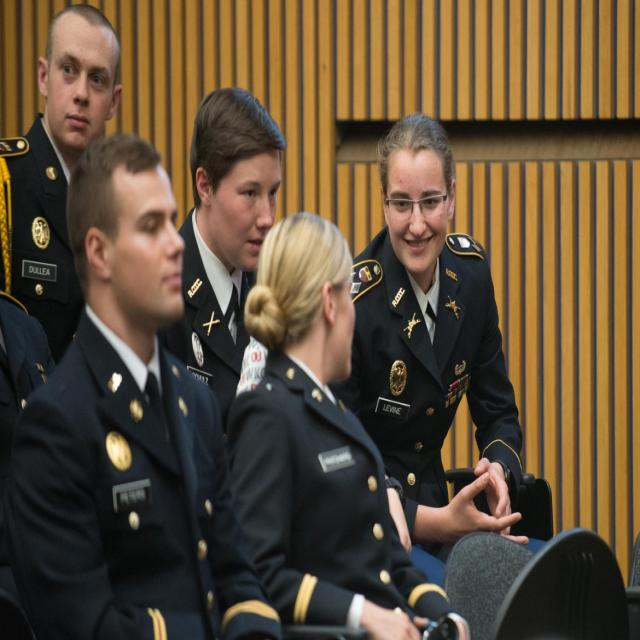body: (6, 132, 284, 640), (217, 208, 471, 639), (327, 110, 531, 549), (150, 82, 288, 439), (0, 0, 128, 338), (0, 290, 56, 438)
